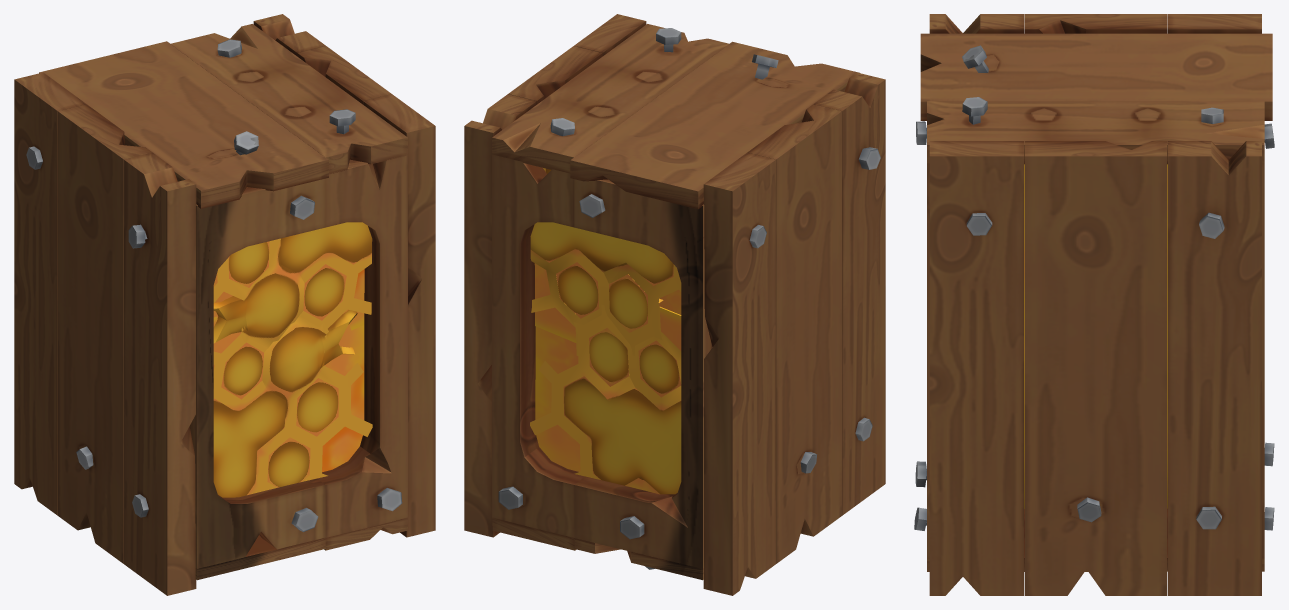
File: fant_beehive.obj
The picture shows the model from 3 angles, left to right: view 1: azimuth 30°, elevation 25°; view 2: azimuth 150°, elevation 25°; view 3: azimuth 270°, elevation 25°; orthographic projection. The views are drawn at different scales.
Parts seen in each view (by area): view 1: fant_Beehive_obj_containers_seed; view 2: fant_Beehive_obj_containers_seed; view 3: fant_Beehive_obj_containers_seed.
Part boxes in pixels (bbox=[...]): fant_Beehive_obj_containers_seed: bbox=[14, 14, 435, 595]; fant_Beehive_obj_containers_seed: bbox=[464, 14, 885, 595]; fant_Beehive_obj_containers_seed: bbox=[914, 14, 1274, 595].
Bounding box in the file's own units: 3.15 × 4.56 × 3.08.
